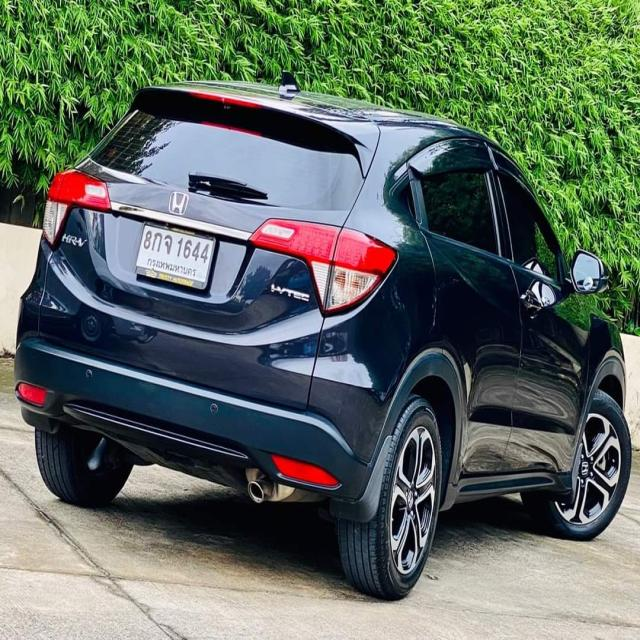license_plate: (133, 217, 222, 298)
